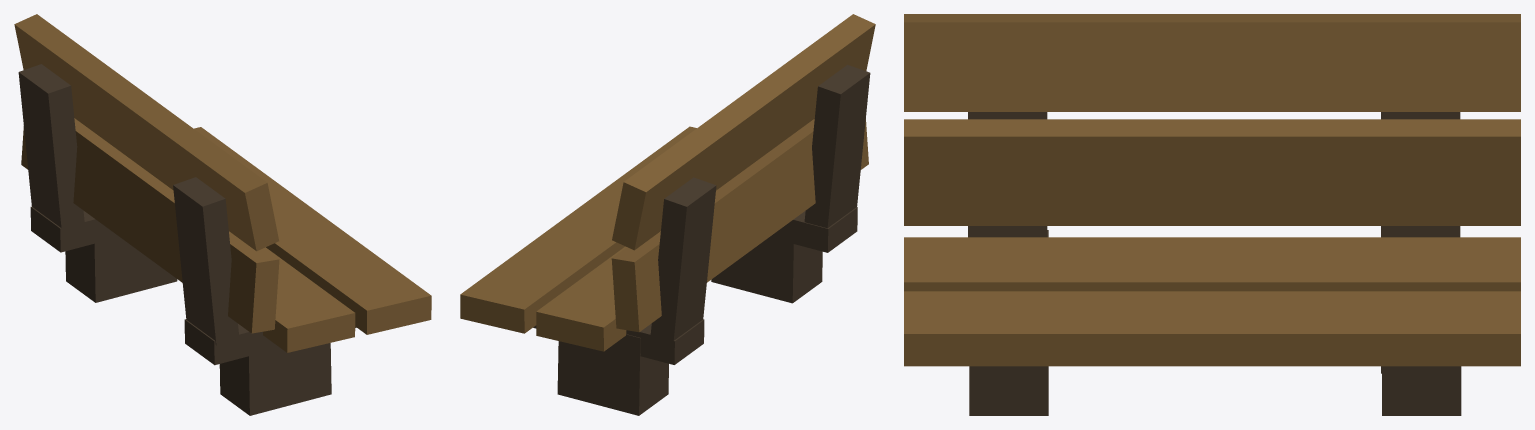
The model's file is bench.fbx.
3 renders of one model, left to right at view 1: azimuth 30°, elevation 25°; view 2: azimuth 150°, elevation 25°; view 3: azimuth 270°, elevation 25°, orthographic. The views are drawn at different scales.
Visible parts, largest first — view 1: bench; view 2: bench; view 3: bench.
Boxes of the visible parts, x1,y1,x2,y2 form: bench: (14,14,431,415); bench: (460,14,875,415); bench: (904,14,1520,415).
Size of the model in its own units: 3.79 by 4.46 by 7.38.
